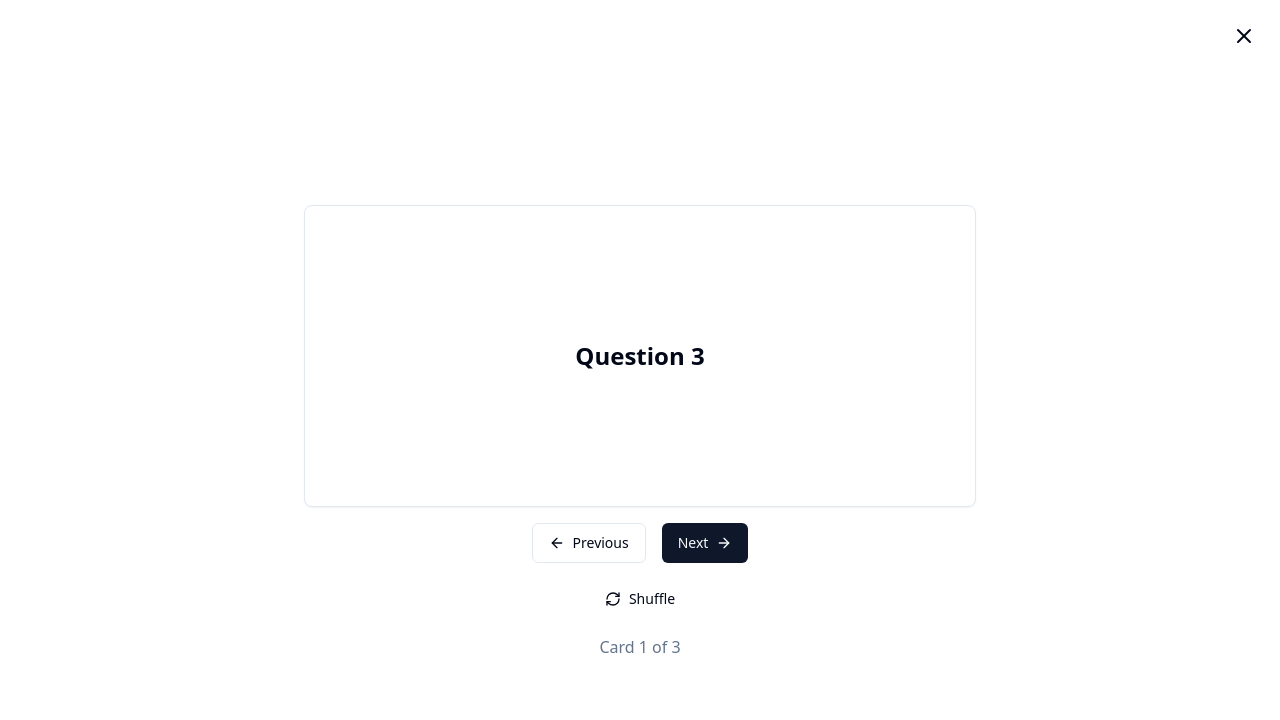
StudyMode › navigates to the next card on "Next" button click
Expected: the text "Question 3" is shown, [575,340,705,372]
# Click Next
Click the button "Next" at [705, 543], box [662,523,748,563]
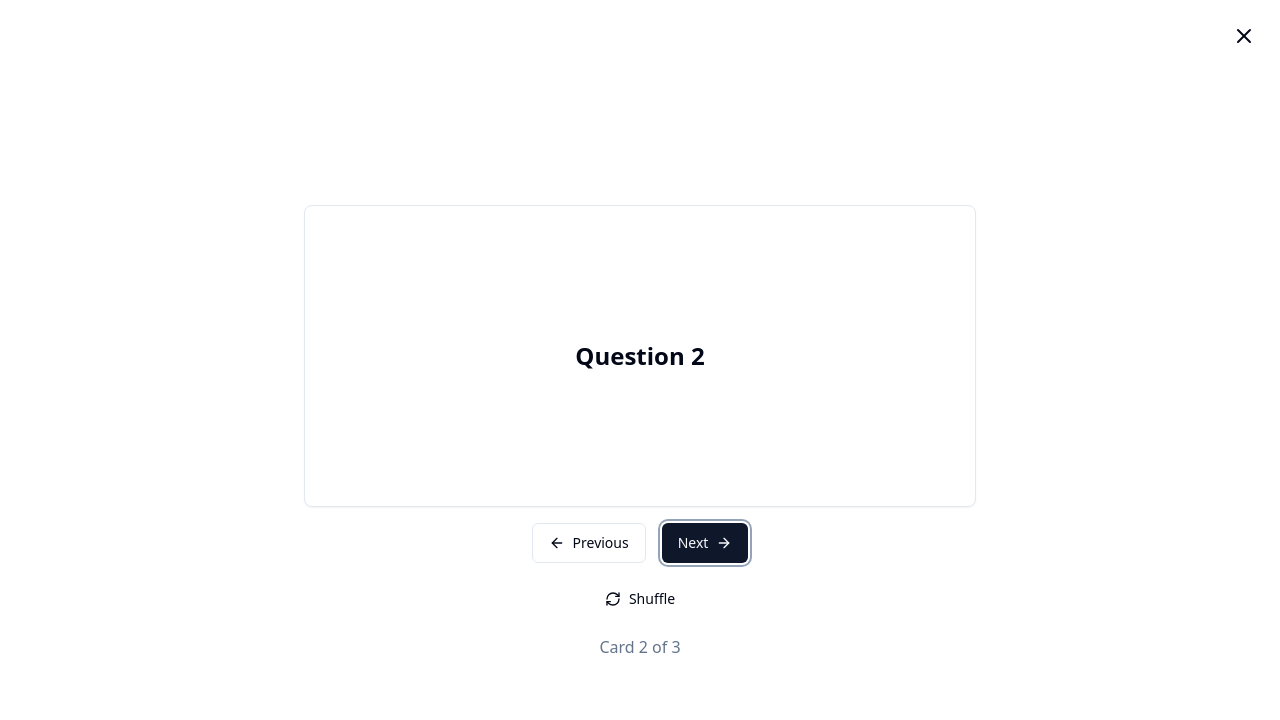
Now the text "Question 2" is shown, box [575,340,705,372]
Now the text "Card 2 of 3" is shown, box [599,635,681,659]
